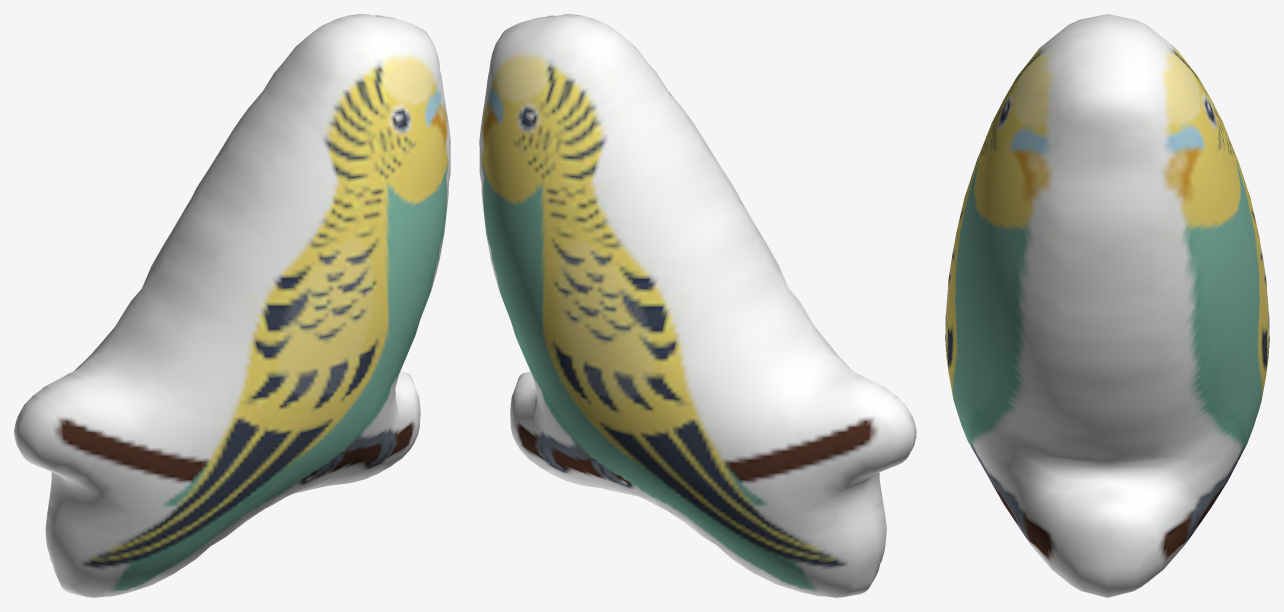
Rendered from parrotc.glb.
3 renders of one model, left to right at view 1: azimuth 30°, elevation 25°; view 2: azimuth 150°, elevation 25°; view 3: azimuth 270°, elevation 25°, orthographic. The views are drawn at different scales.
Visible parts, largest first — view 1: 2ae5fd6c-28b9-488b-ac79-763127e685a9; view 2: 2ae5fd6c-28b9-488b-ac79-763127e685a9; view 3: 2ae5fd6c-28b9-488b-ac79-763127e685a9.
Part boxes in pixels (x1=…): 2ae5fd6c-28b9-488b-ac79-763127e685a9: x1=14, y1=14, x2=450, y2=597; 2ae5fd6c-28b9-488b-ac79-763127e685a9: x1=479, y1=14, x2=916, y2=597; 2ae5fd6c-28b9-488b-ac79-763127e685a9: x1=945, y1=14, x2=1269, y2=597.
Bounding box in the file's own units: 0.3948 × 0.4561 × 0.2105.
1 material, 1 textured.
